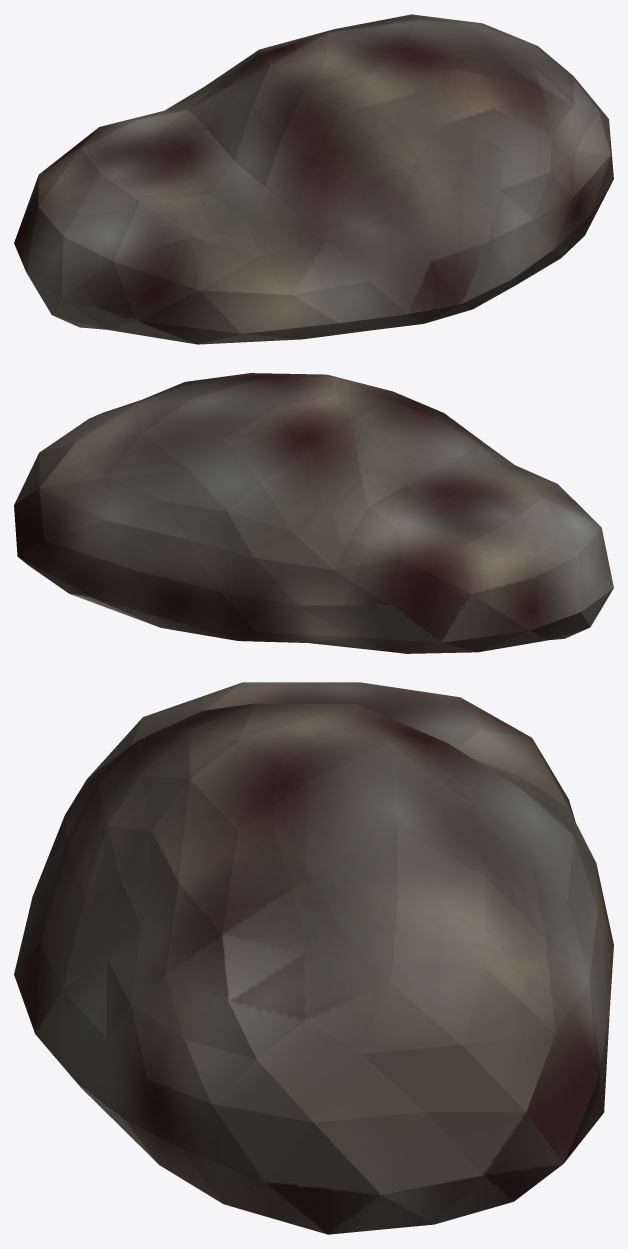
File: Stone_1.fbx
3 renders of one model, top to bottom at view 1: azimuth 30°, elevation 25°; view 2: azimuth 150°, elevation 25°; view 3: azimuth 270°, elevation 25°, orthographic. The views are drawn at different scales.
Parts seen in each view (by area): view 1: Stone1; view 2: Stone1; view 3: Stone1.
Boxes of the visible parts, x1=… form: Stone1: x1=14, y1=14, x2=613, y2=344; Stone1: x1=14, y1=373, x2=613, y2=653; Stone1: x1=14, y1=682, x2=613, y2=1234.
Bounding box in the file's own units: 274 × 107 × 166.
